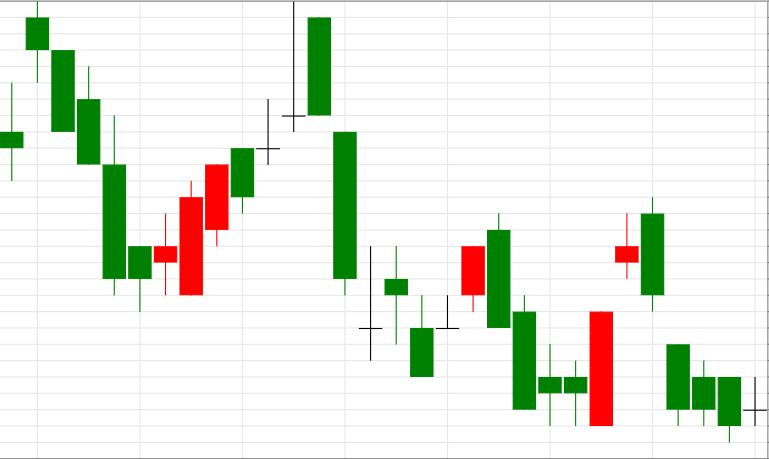bearish_engulfing_fall: (512, 196, 665, 425), (409, 213, 511, 377)
bullish_engulfing_rise: (487, 213, 613, 426)
